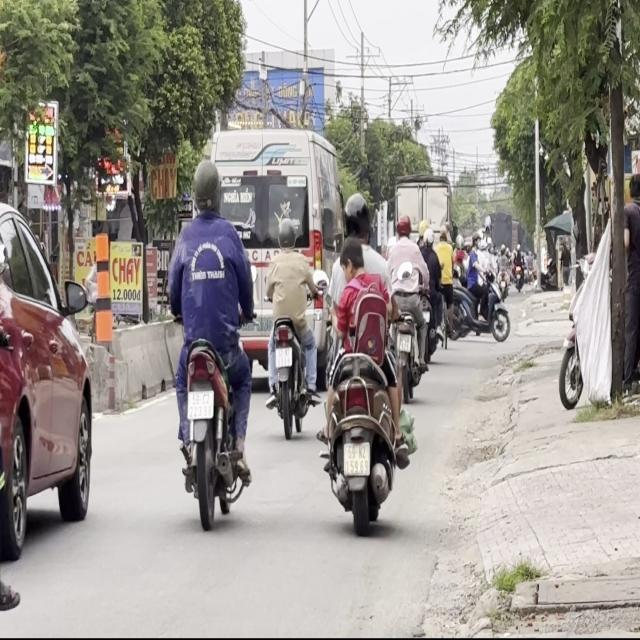helmet: (190, 158, 223, 216), (342, 192, 370, 241), (277, 217, 296, 249)
licenseplate: (164, 154, 256, 526), (317, 190, 414, 536), (263, 215, 317, 434)
motorcyclist: (338, 235, 366, 280)
nohelmet: (344, 444, 369, 476), (188, 391, 213, 419), (275, 346, 292, 366)
